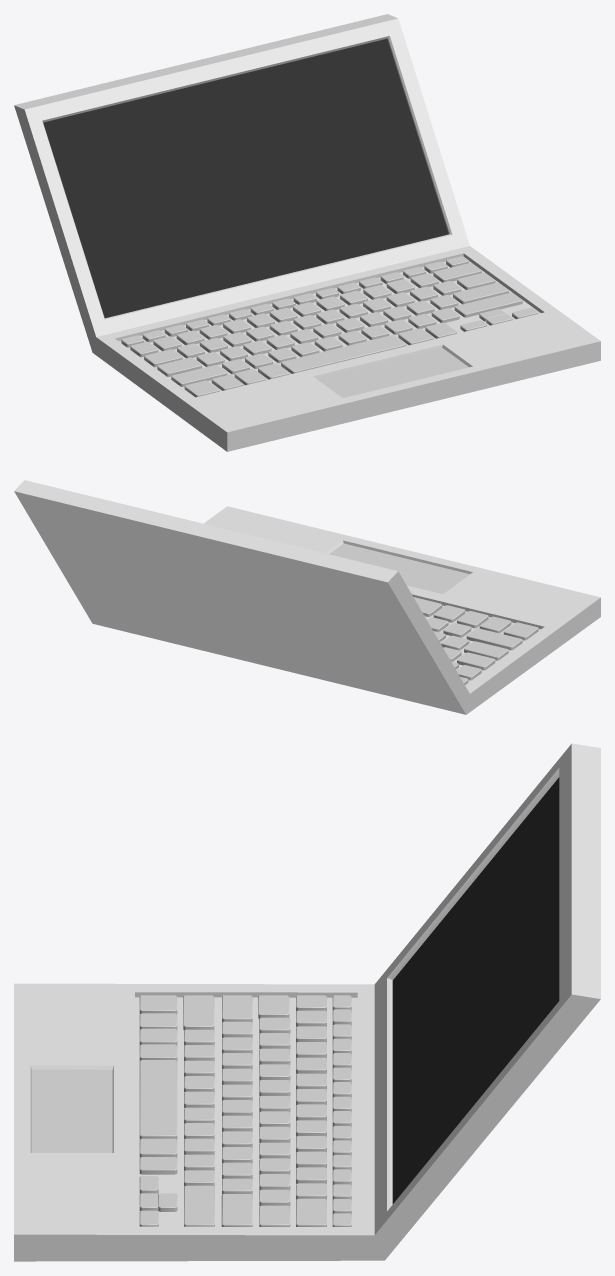
Rendered from M_Laptop.FBX.
3 views of the same model, one above another, from view 1: azimuth 30°, elevation 25°; view 2: azimuth 150°, elevation 25°; view 3: azimuth 270°, elevation 25° (orthographic). The views are drawn at different scales.
Visible parts, largest first — view 1: Box034; view 2: Box034; view 3: Box034.
Part boxes in pixels (bbox=[...]): Box034: bbox=[14, 14, 600, 451]; Box034: bbox=[14, 480, 600, 714]; Box034: bbox=[14, 743, 600, 1261].
Bounding box in the file's own units: 37.28 × 36.84 × 18.49.
